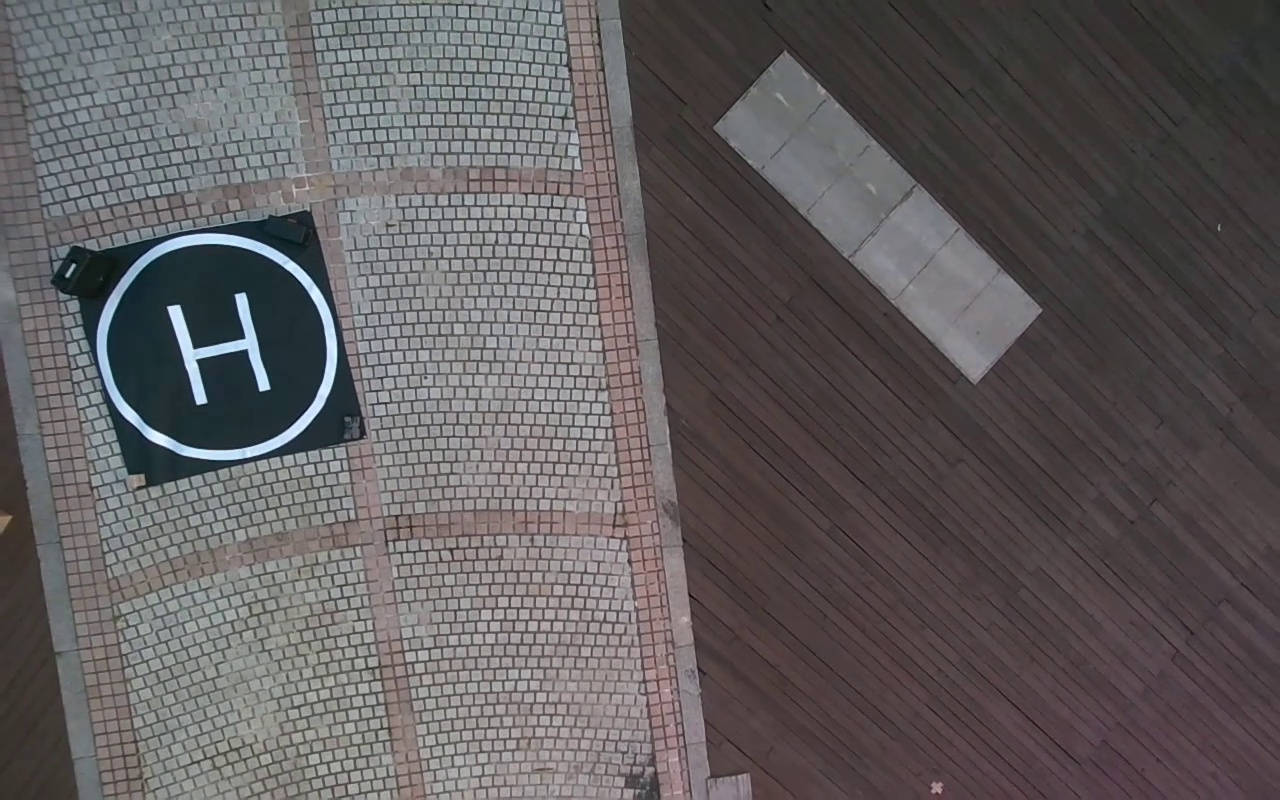H: (164, 290, 271, 403)
heliport: (96, 234, 339, 458)
